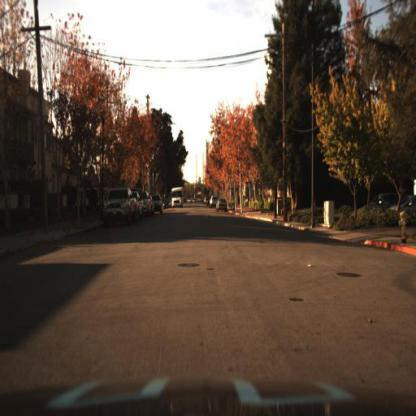car: (102, 184, 138, 228), (132, 188, 146, 219), (171, 185, 185, 210)
